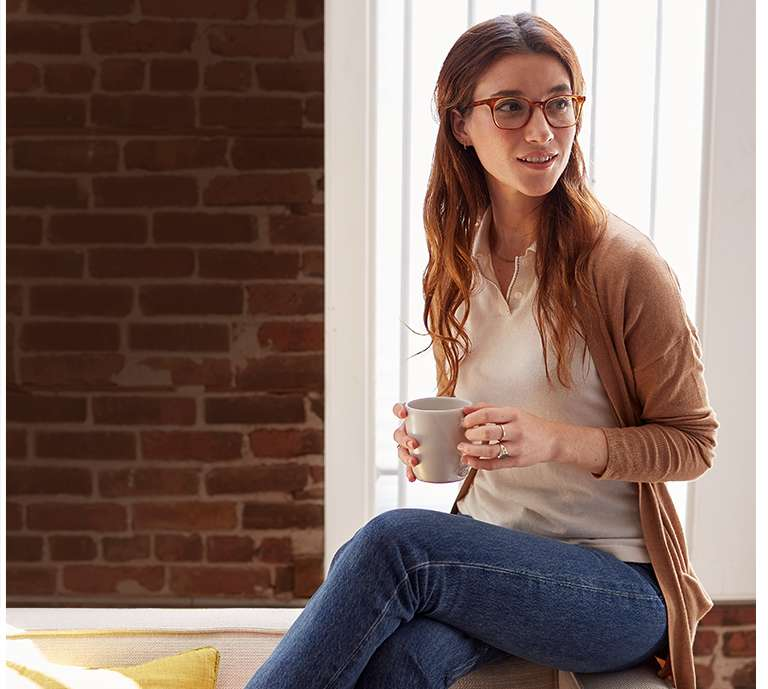sunglasses: (436, 86, 610, 131)
